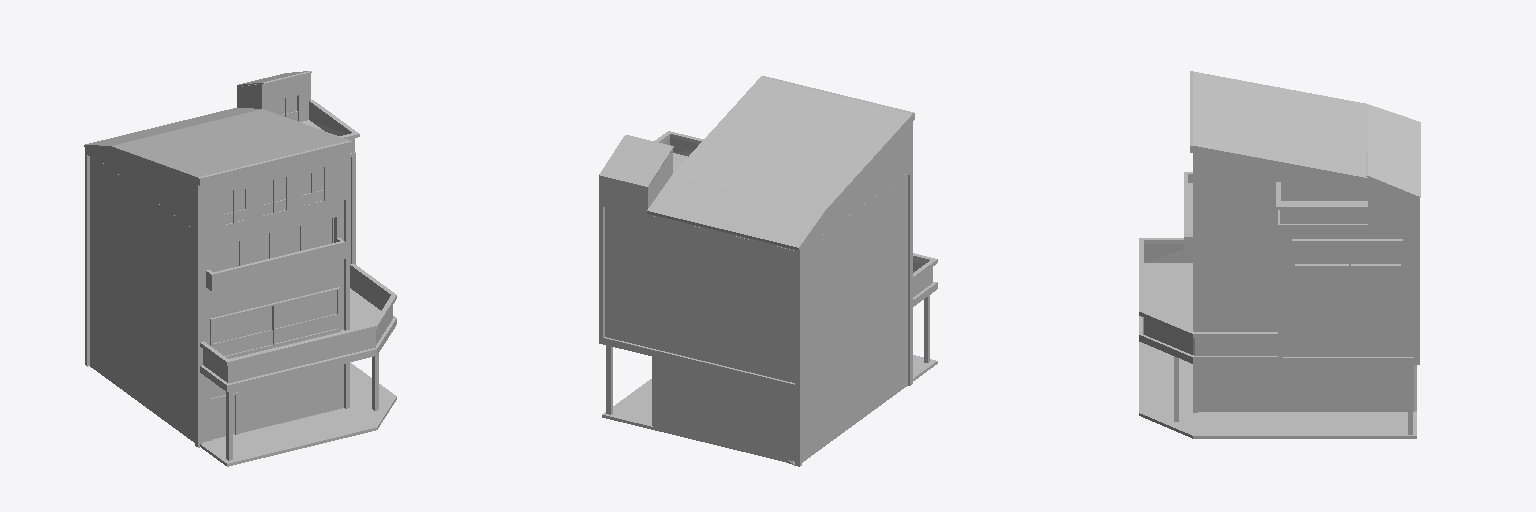
Rendered from casa3.OBJ.
The picture shows the model from 3 angles: view 1: azimuth 30°, elevation 25°; view 2: azimuth 150°, elevation 25°; view 3: azimuth 270°, elevation 25°; orthographic projection.
Visible parts, largest first — view 1: Group58856, Group53269, Group7913, Group10111, Group24586, Group19156, Group43712, Group56027, Group55639, Group64729, Group60848, Group33641 (+2 smaller); view 2: Group58856, Group53269, Group56027, Group64729, Group7913, Group55639, Group24586, Group33641, Group43712, Group60848; view 3: Group58856, Group53269, Group7913, Group56027, Group43712, Group64729, Group19156, Group55639, Group10111, Group60848, Group33641.
Boxes of the visible parts, box(x1,y1,x2,y2) form: Group58856: box(90, 157, 350, 441); Group53269: box(84, 71, 351, 185); Group7913: box(90, 120, 396, 466); Group10111: box(210, 96, 336, 342); Group24586: box(198, 73, 349, 232); Group19156: box(206, 111, 345, 355); Group43712: box(203, 105, 392, 383); Group56027: box(85, 84, 261, 231); Group55639: box(85, 153, 355, 444); Group64729: box(85, 122, 355, 447); Group60848: box(200, 100, 396, 365); Group33641: box(226, 354, 378, 460); Group58856: box(605, 176, 907, 461); Group53269: box(599, 76, 914, 251); Group56027: box(648, 118, 912, 250); Group64729: box(599, 153, 912, 466); Group7913: box(602, 153, 937, 465); Group55639: box(599, 173, 912, 385); Group24586: box(599, 152, 670, 214); Group33641: box(606, 295, 929, 414); Group43712: box(663, 137, 932, 296); Group60848: box(654, 131, 937, 280); Group58856: box(1198, 204, 1416, 411); Group53269: box(1190, 71, 1420, 197); Group7913: box(1139, 183, 1416, 438); Group56027: box(1193, 149, 1419, 224); Group43712: box(1143, 210, 1367, 355); Group64729: box(1193, 201, 1419, 364); Group19156: box(1184, 172, 1402, 280); Group55639: box(1193, 204, 1419, 412); Group10111: box(1295, 243, 1400, 263); Group60848: box(1139, 182, 1367, 337); Group33641: box(1174, 356, 1412, 434).
Size of the model in its own units: 0.5506 by 0.6997 by 0.6616.